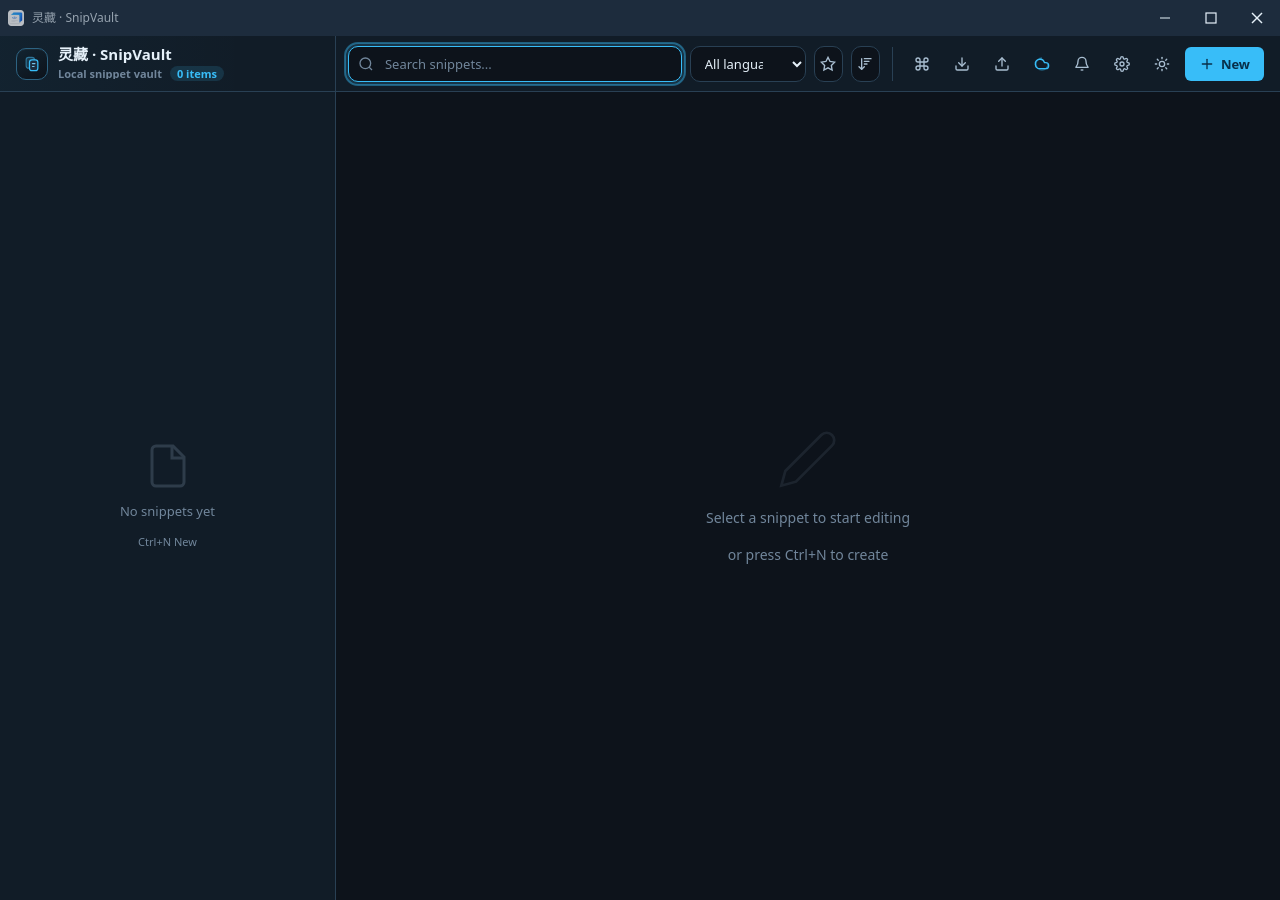
Test: App synchronization coordination › runs Settings sync once and refreshes the main snippet list once
Click the button titled "Settings". click: (1122, 64)
box: [1105,46,1139,80]
(page scrolled)
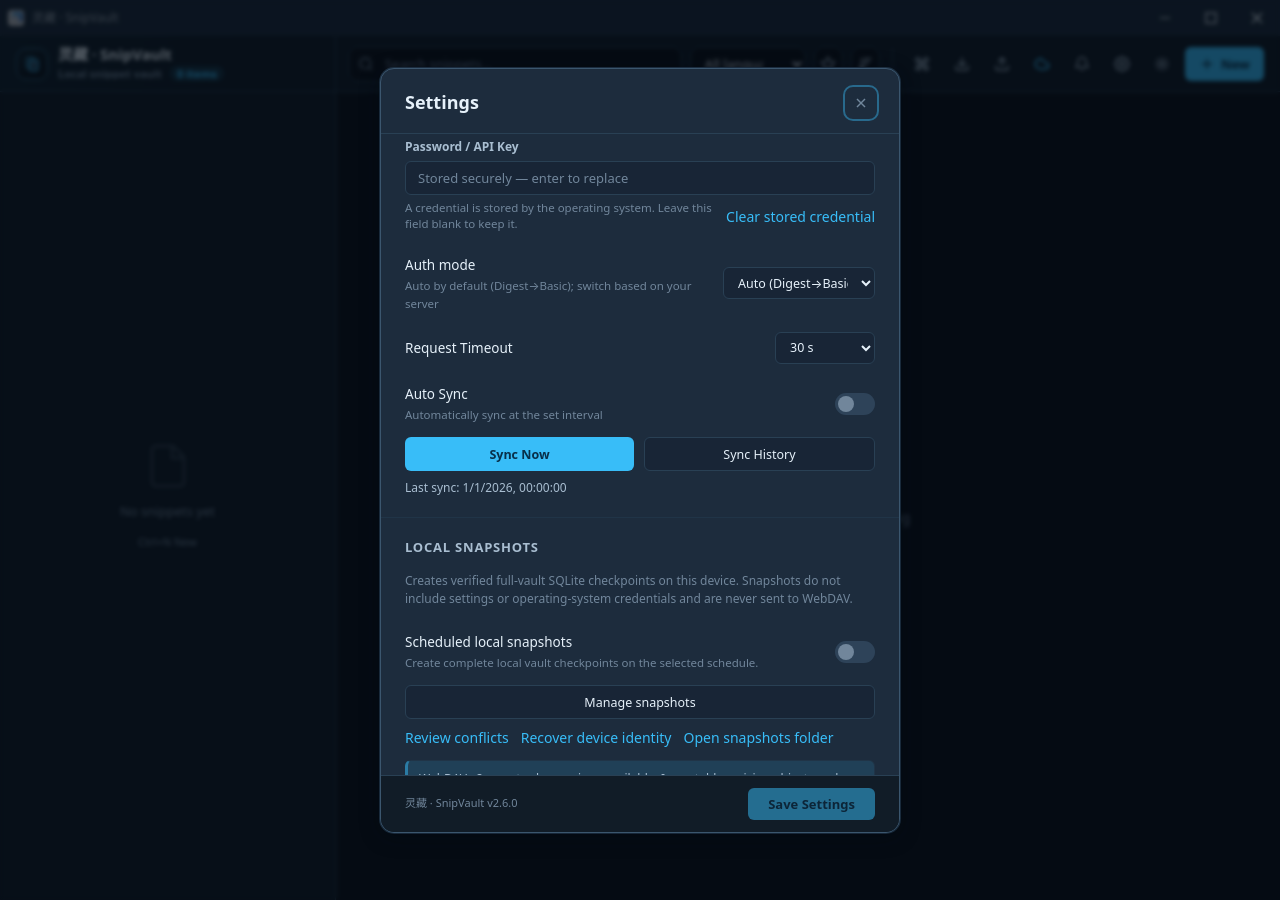
Click the button "Sync Now". click: (520, 454)
box: [405,437,634,471]
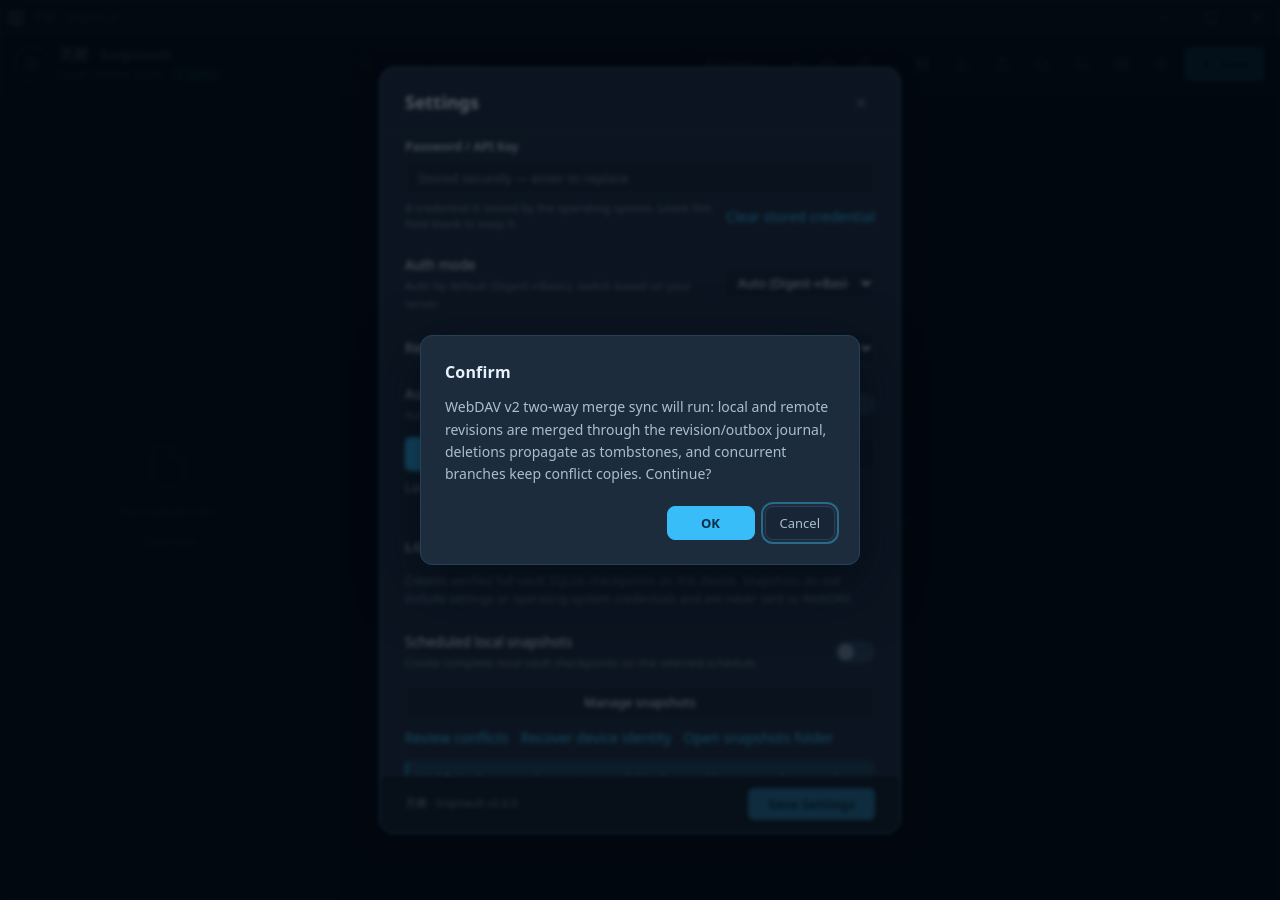
Click the button "OK". click: (710, 523)
box: [666,506,754,540]
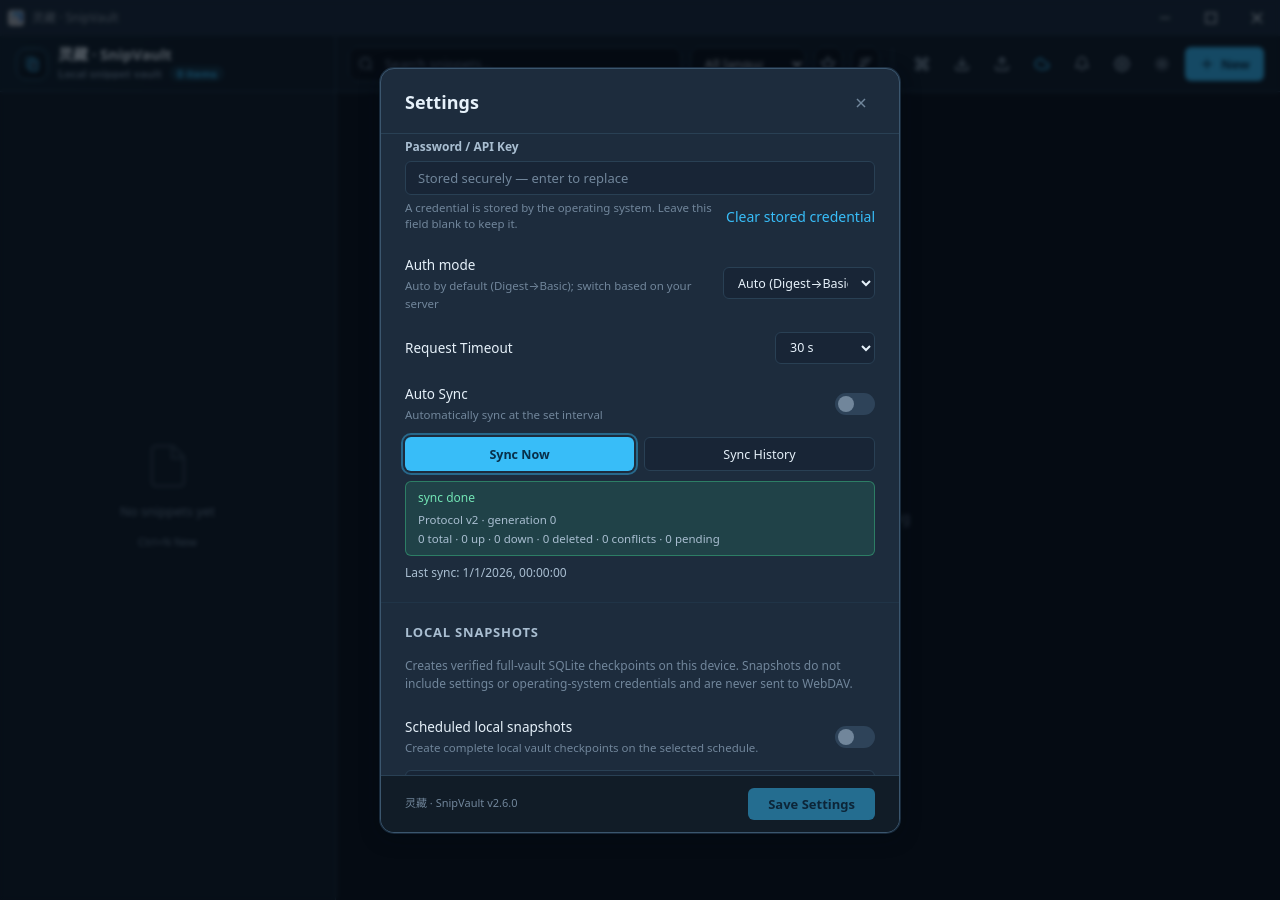
Check: the text "sync done" is shown once, box [405,481,875,556]
